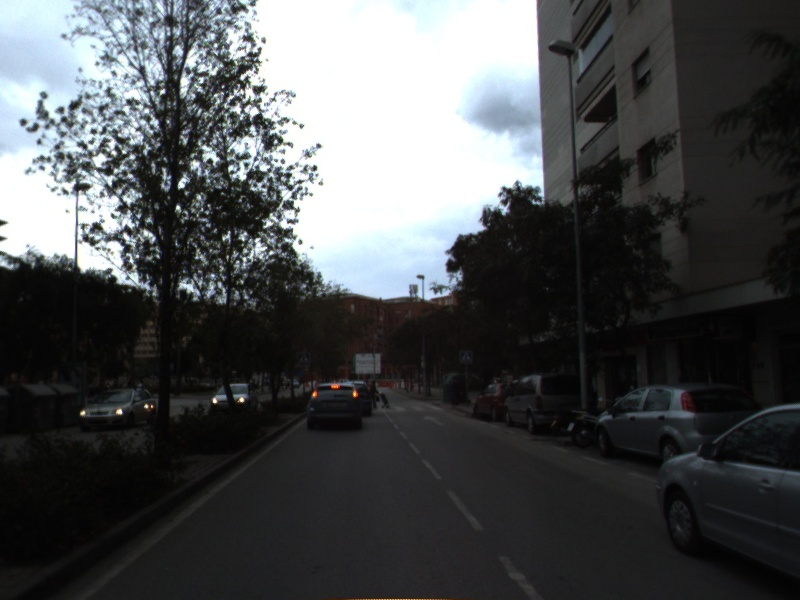STRAIGHT: (421, 413, 447, 428)
